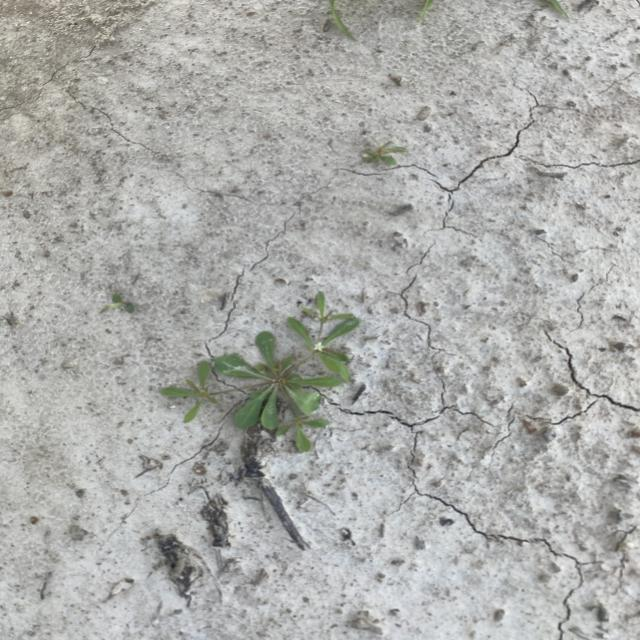Carpetweed: (157, 290, 363, 455)
